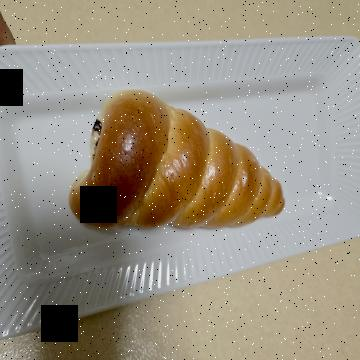cream horn: (72, 57, 251, 297)
